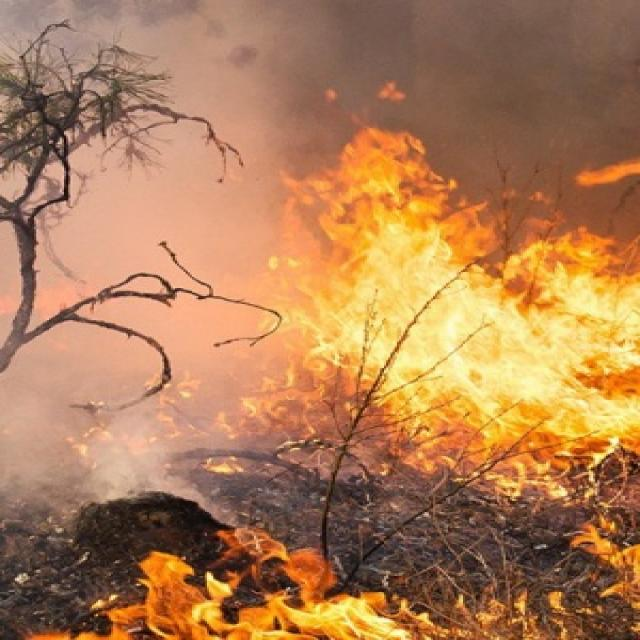Fire: (249, 70, 640, 518), (0, 515, 574, 640), (554, 505, 640, 612)
Smoke: (0, 0, 275, 533)
